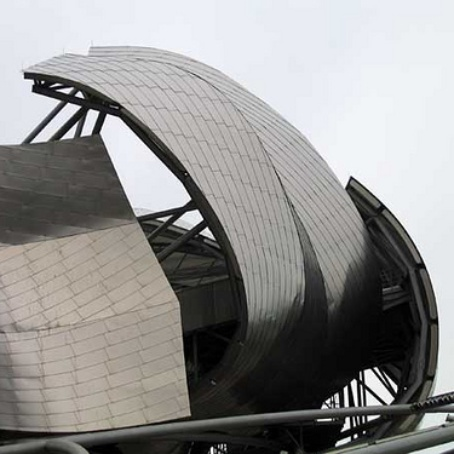building: (1, 57, 402, 454)
sky: (159, 3, 454, 185)
